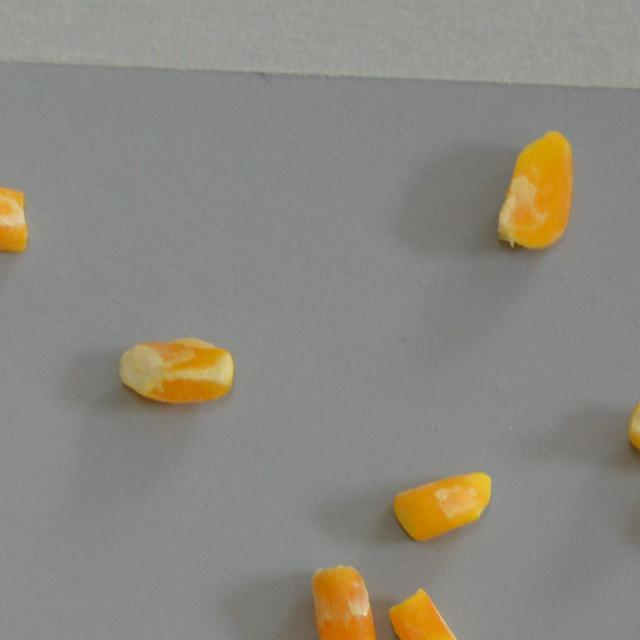pelicula: (488, 112, 591, 272), (118, 336, 235, 406), (389, 469, 492, 545), (310, 562, 379, 640), (388, 585, 474, 640), (0, 178, 46, 255), (626, 390, 640, 474)
